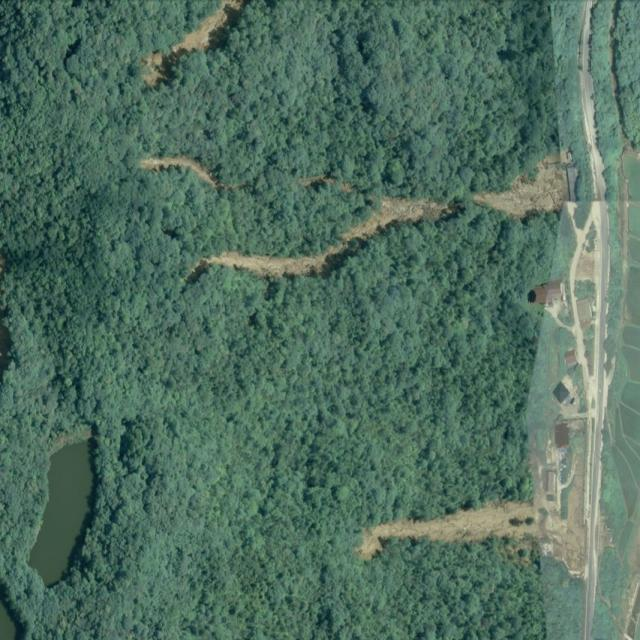landslide: (190, 197, 461, 278), (358, 503, 538, 561), (141, 0, 247, 86), (473, 152, 570, 218), (140, 155, 244, 190)
